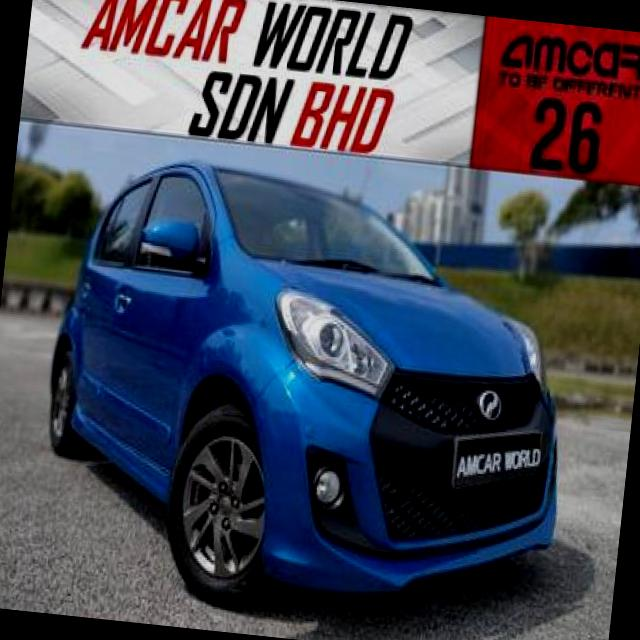PeroduaMyvi: (26, 144, 592, 639)
